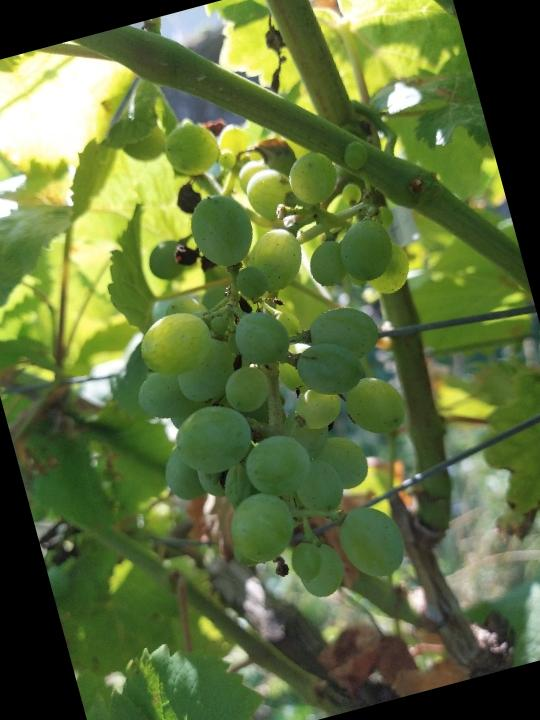grape: (69, 66, 488, 631)
